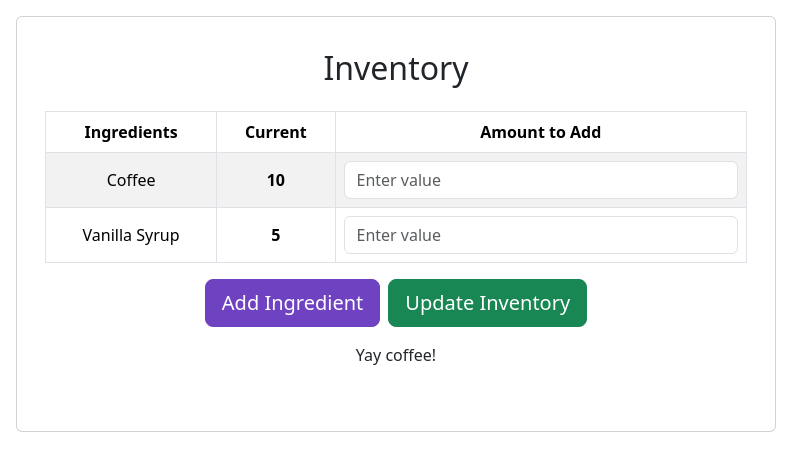
Test: InventoryComponent › shows validation error for invalid inventory amount
In the number field with placeholder "Enter value" next to "10": (541, 180) [344, 161, 738, 199], type "-1"
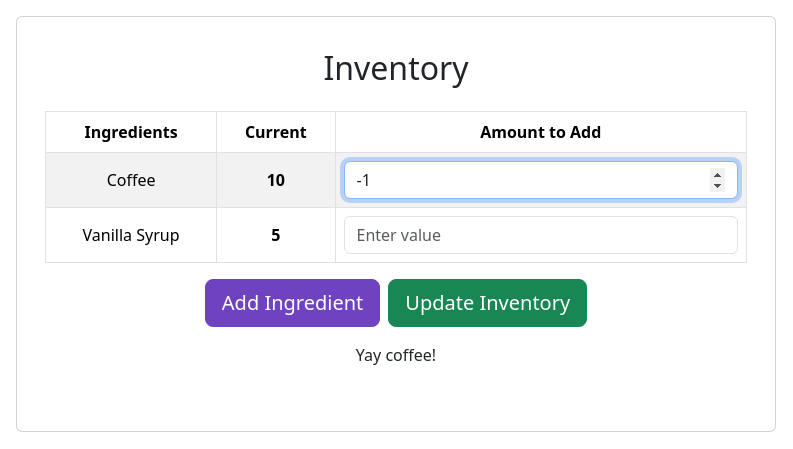
Click the button "Update Inventory": (488, 303) [388, 279, 587, 327]
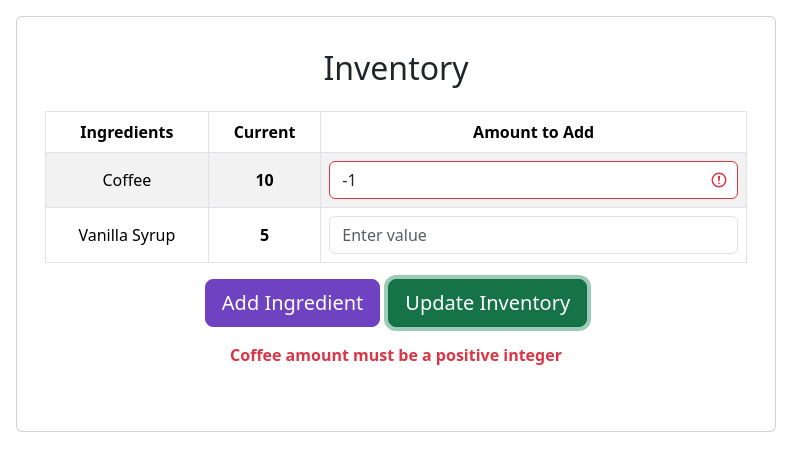
Expected: the text "Coffee amount must be a positive integer" is shown, [230, 344, 562, 366]
